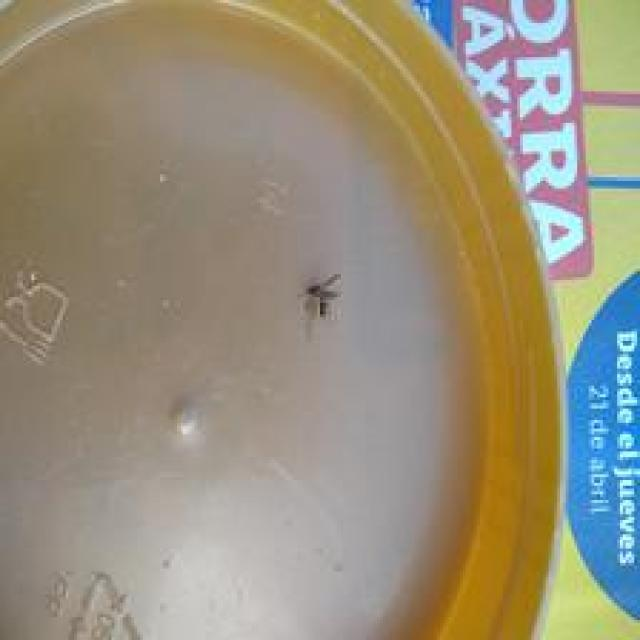Aedes albopictus: (298, 271, 342, 320)
